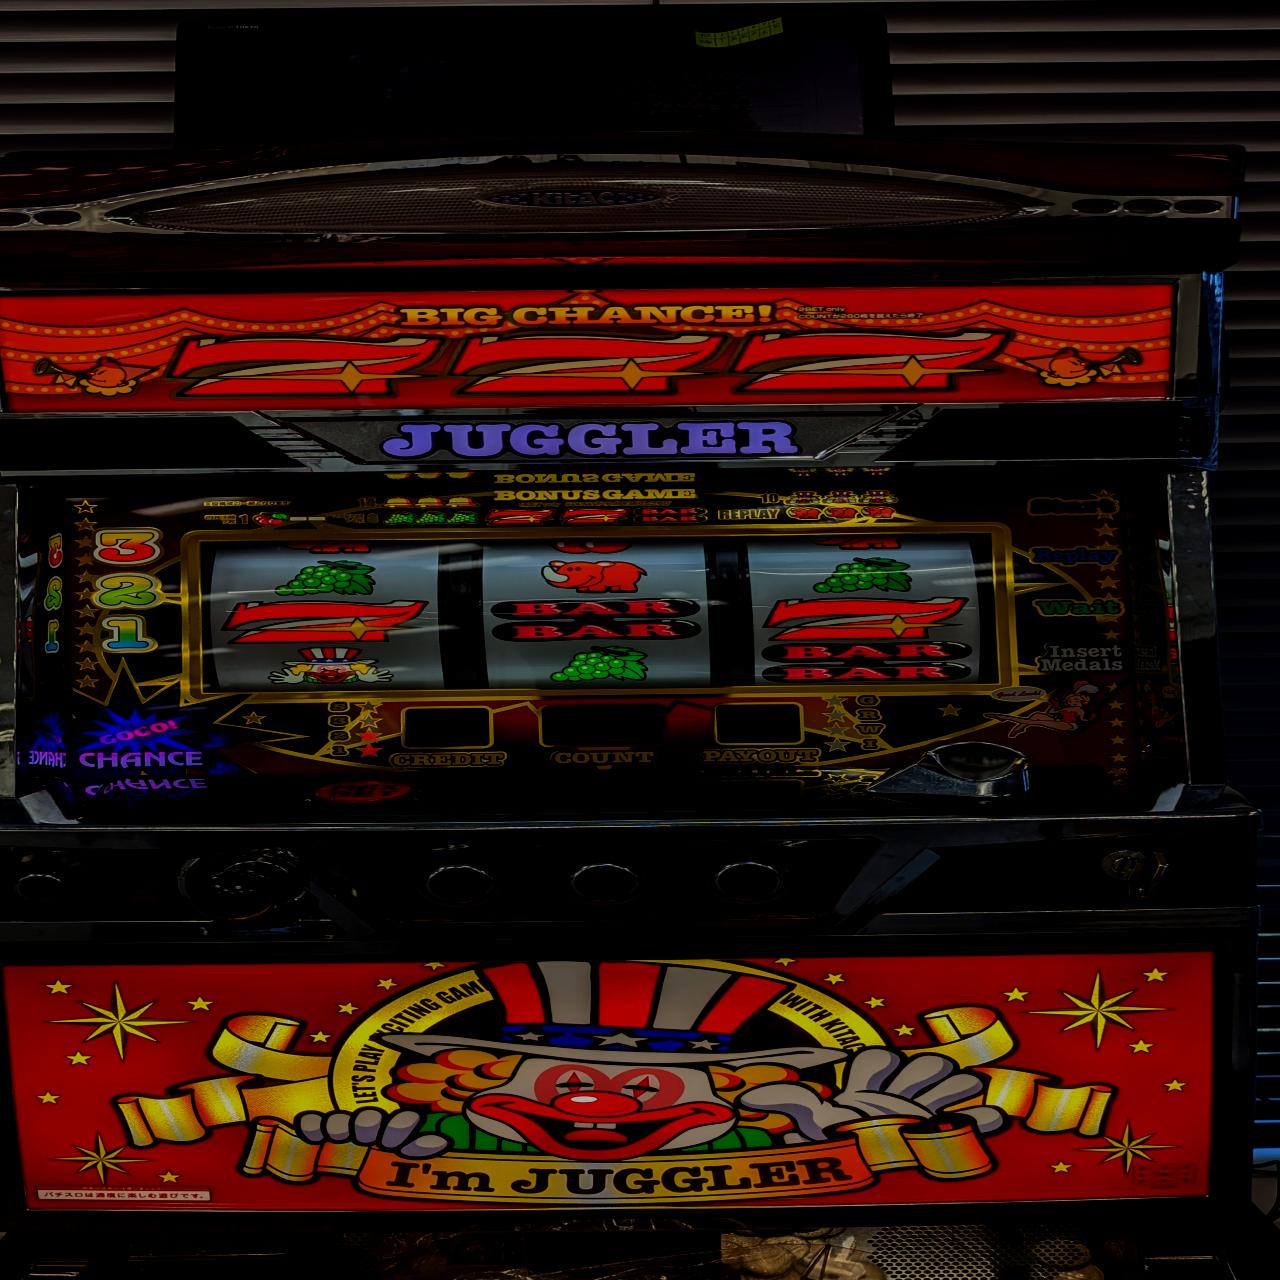7: (764, 598, 975, 639), (222, 602, 429, 644)
Display: (186, 530, 1016, 692)
bar: (488, 598, 702, 641), (757, 644, 974, 682)
clown: (267, 645, 390, 686)
grape: (271, 559, 386, 595), (551, 647, 653, 683), (812, 557, 912, 592)
rhino: (539, 559, 647, 593)
